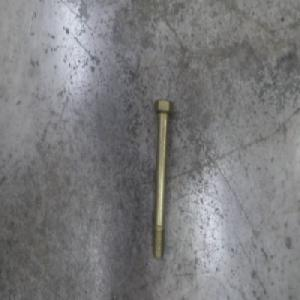Bolt: (152, 96, 174, 261)
